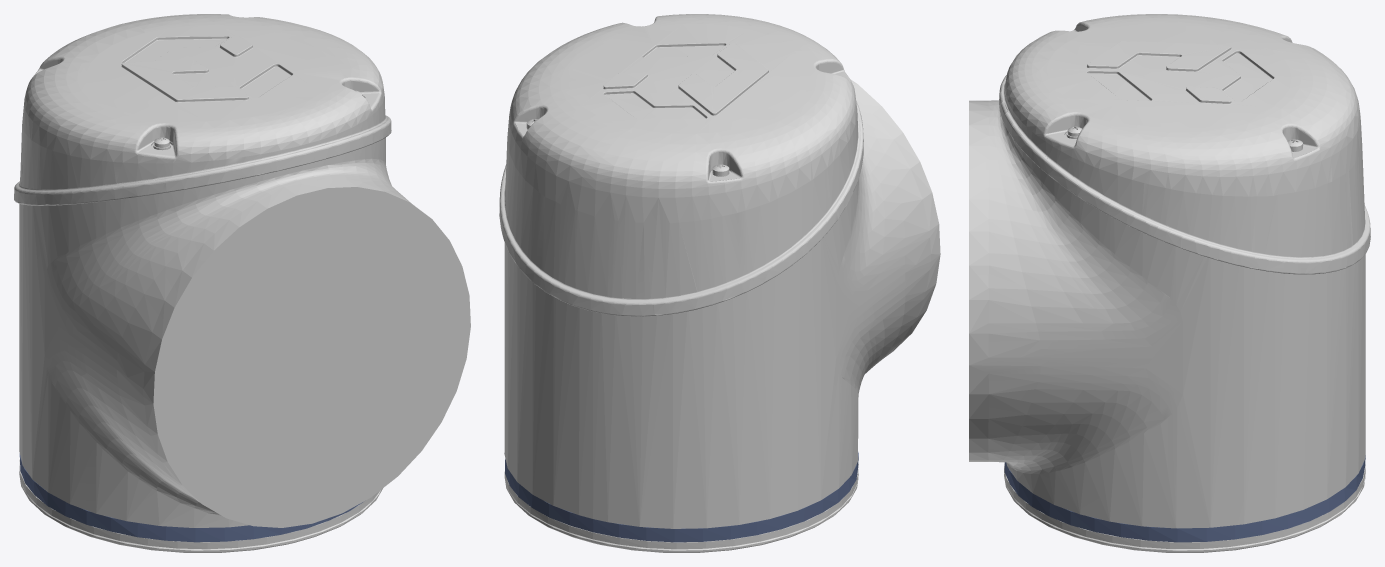
File: shoulder.dae
3 views of the same model, side by side, from view 1: azimuth 30°, elevation 25°; view 2: azimuth 150°, elevation 25°; view 3: azimuth 270°, elevation 25° (orthographic). The views are drawn at different scales.
Parts seen in each view (by area): view 1: cs66_link1_part1, cs66_link1_part2; view 2: cs66_link1_part1, cs66_link1_part2; view 3: cs66_link1_part1, cs66_link1_part2.
Part boxes in pixels (box(x1,y1,x2,y2)): cs66_link1_part1: box(14, 14, 470, 552); cs66_link1_part2: box(19, 453, 362, 542); cs66_link1_part1: box(499, 14, 940, 552); cs66_link1_part2: box(505, 452, 858, 542); cs66_link1_part1: box(969, 14, 1370, 552); cs66_link1_part2: box(1004, 455, 1365, 542).
Bounding box in the file's own units: 0.1215 × 0.131 × 0.1478.
